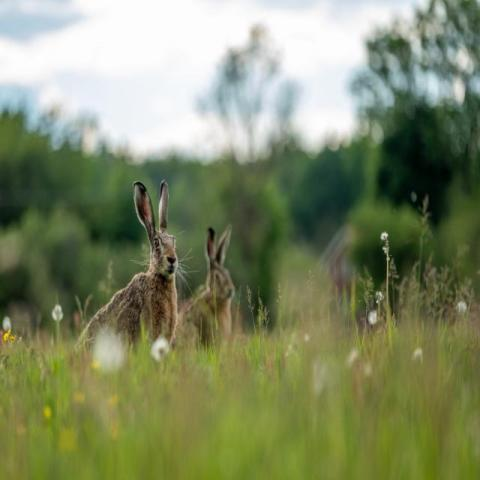small_animal: (74, 178, 186, 360), (178, 223, 238, 352)
